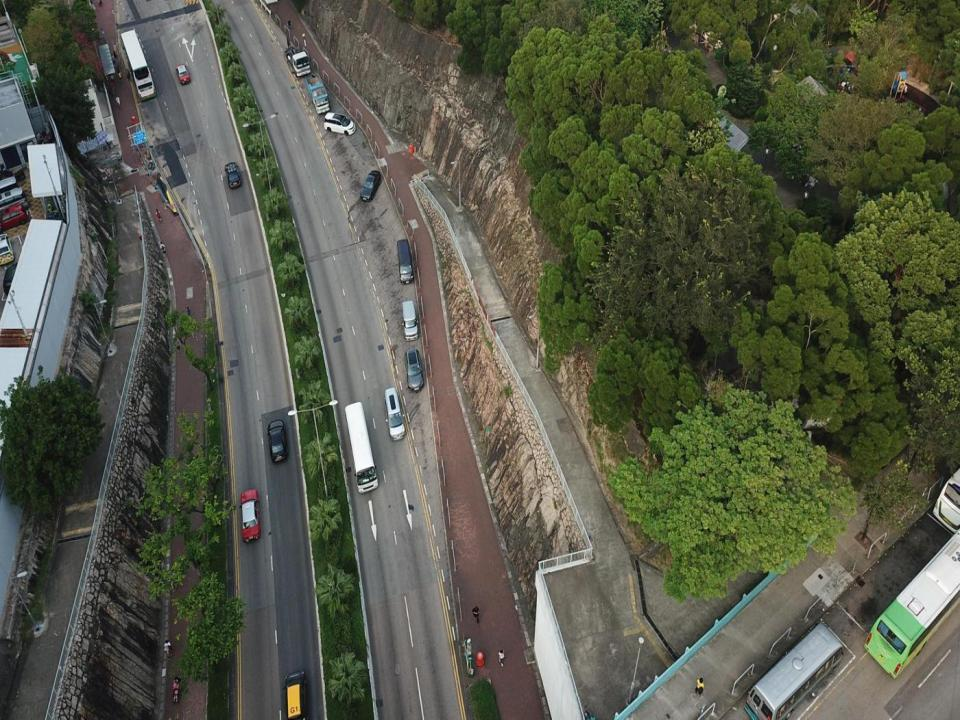bus: (863, 529, 960, 679), (743, 621, 844, 719), (344, 402, 378, 493), (120, 29, 155, 102)
car: (239, 489, 261, 543), (266, 420, 288, 462), (324, 112, 356, 134), (360, 170, 382, 201), (225, 162, 241, 188), (176, 63, 190, 84)
truck: (284, 34, 311, 78), (305, 72, 330, 113)
van: (283, 670, 307, 719), (384, 388, 405, 440), (404, 348, 424, 392), (396, 240, 415, 284), (402, 300, 418, 340)
